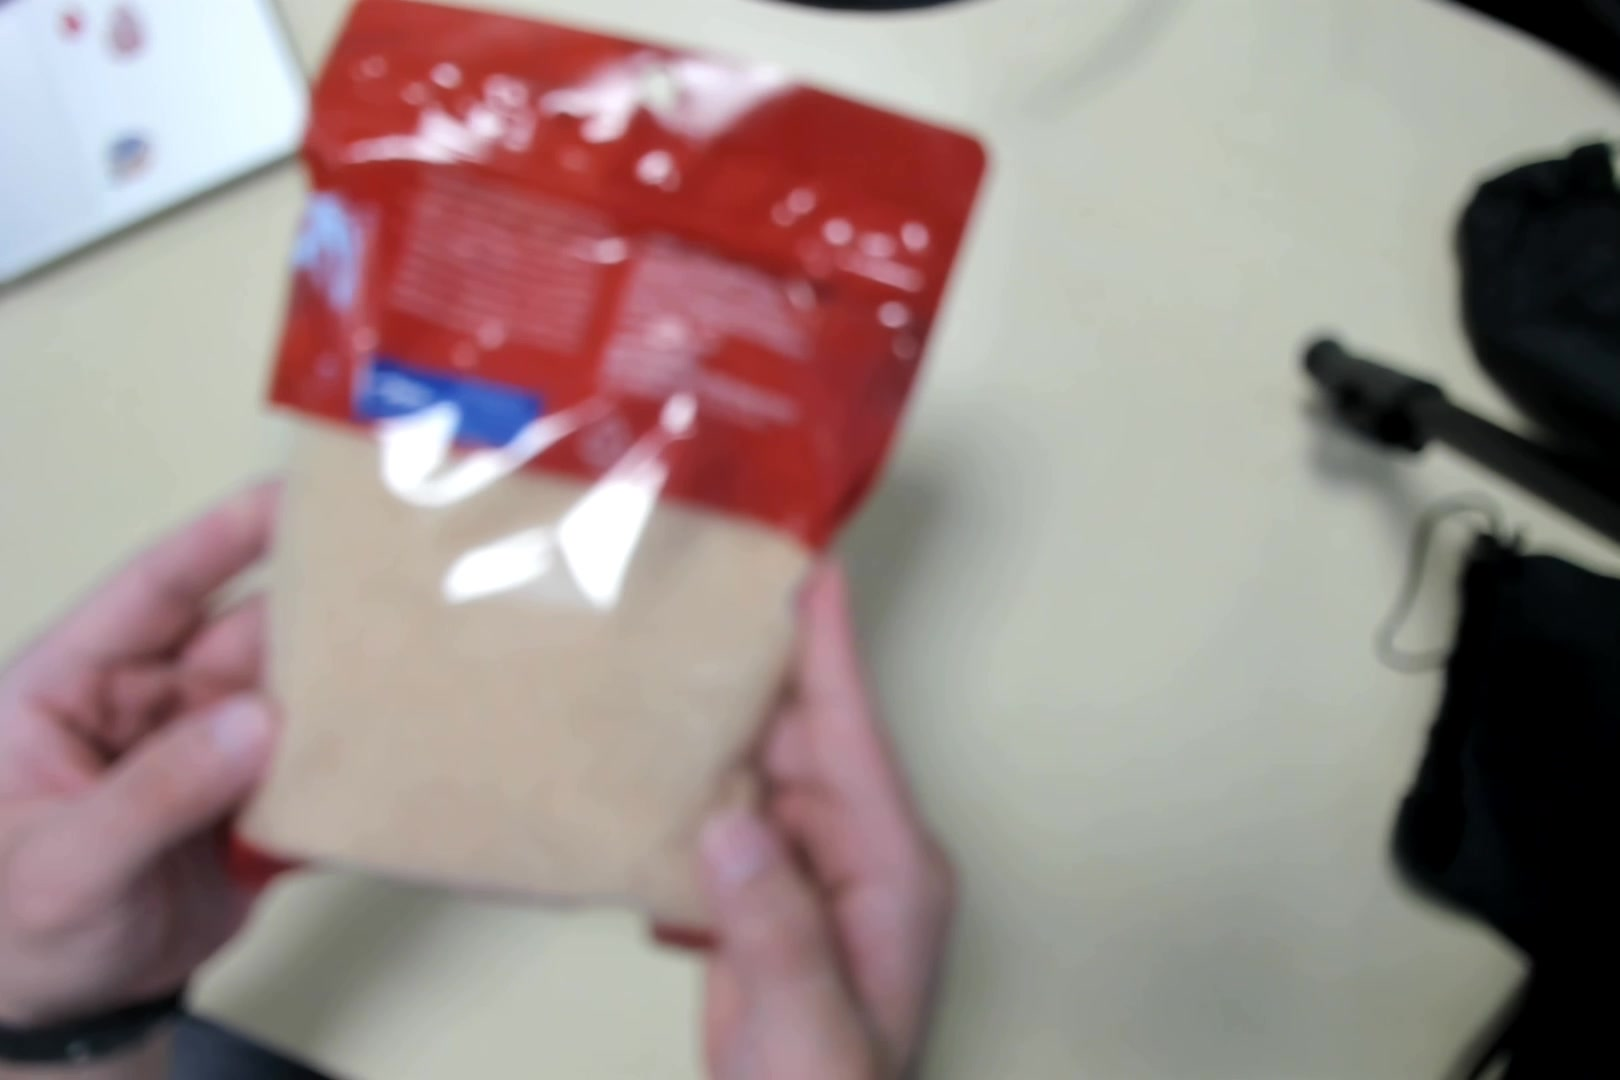Suger_200-299g_Halal_NonHealthy: (230, 1, 849, 931)
